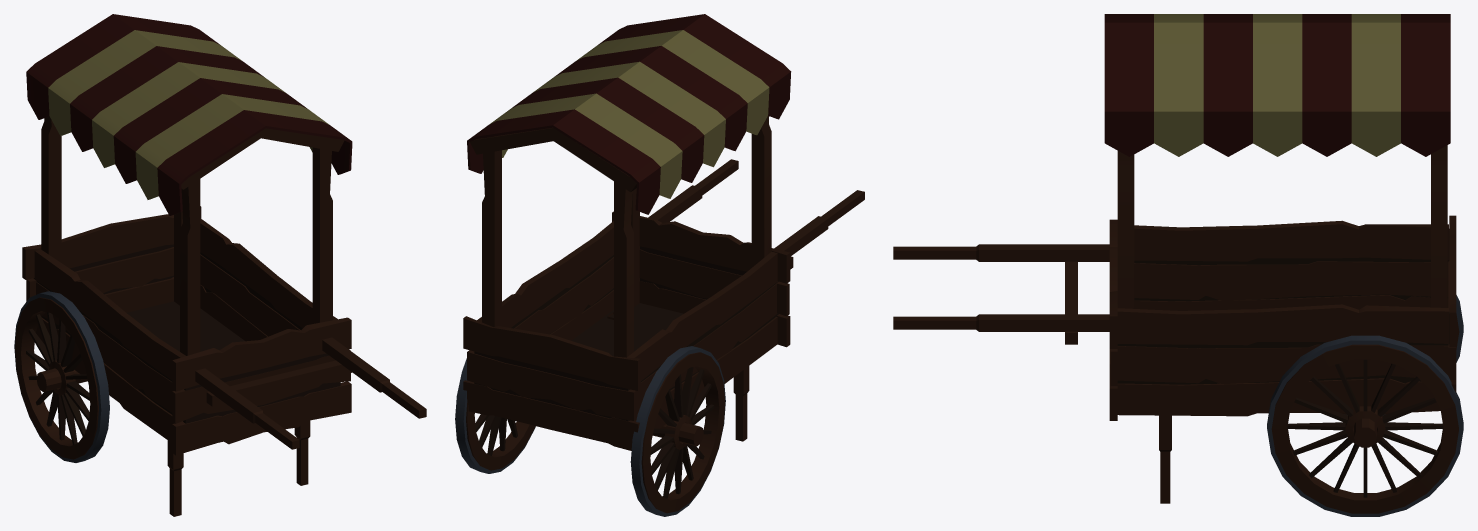
Rendered from Cart.obj.
The picture shows the model from 3 angles, left to right: view 1: azimuth 30°, elevation 25°; view 2: azimuth 150°, elevation 25°; view 3: azimuth 270°, elevation 25°; orthographic projection. The views are drawn at different scales.
Parts seen in each view (by area): view 1: Cart_Cube.350; view 2: Cart_Cube.350; view 3: Cart_Cube.350.
Boxes of the visible parts, bbox=[...] form: Cart_Cube.350: bbox=[14, 14, 426, 516]; Cart_Cube.350: bbox=[455, 14, 864, 516]; Cart_Cube.350: bbox=[893, 14, 1463, 516].
Bounding box in the file's own units: 0.462 × 0.7961 × 0.9274.
